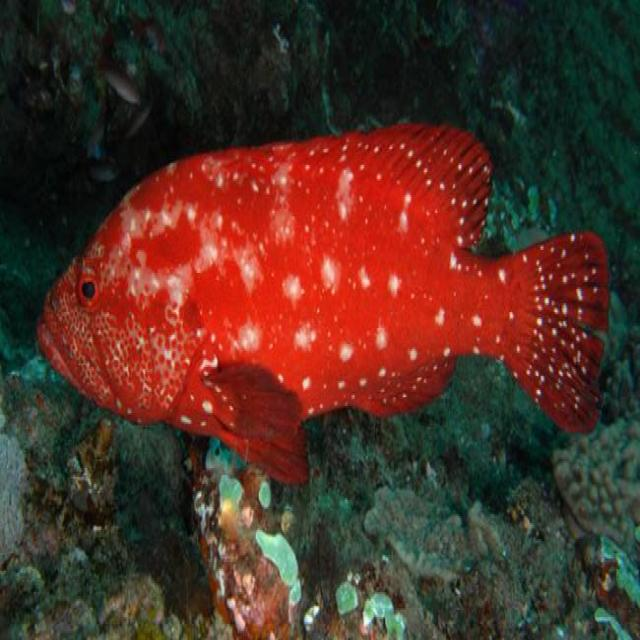ikan: (34, 117, 610, 486)
